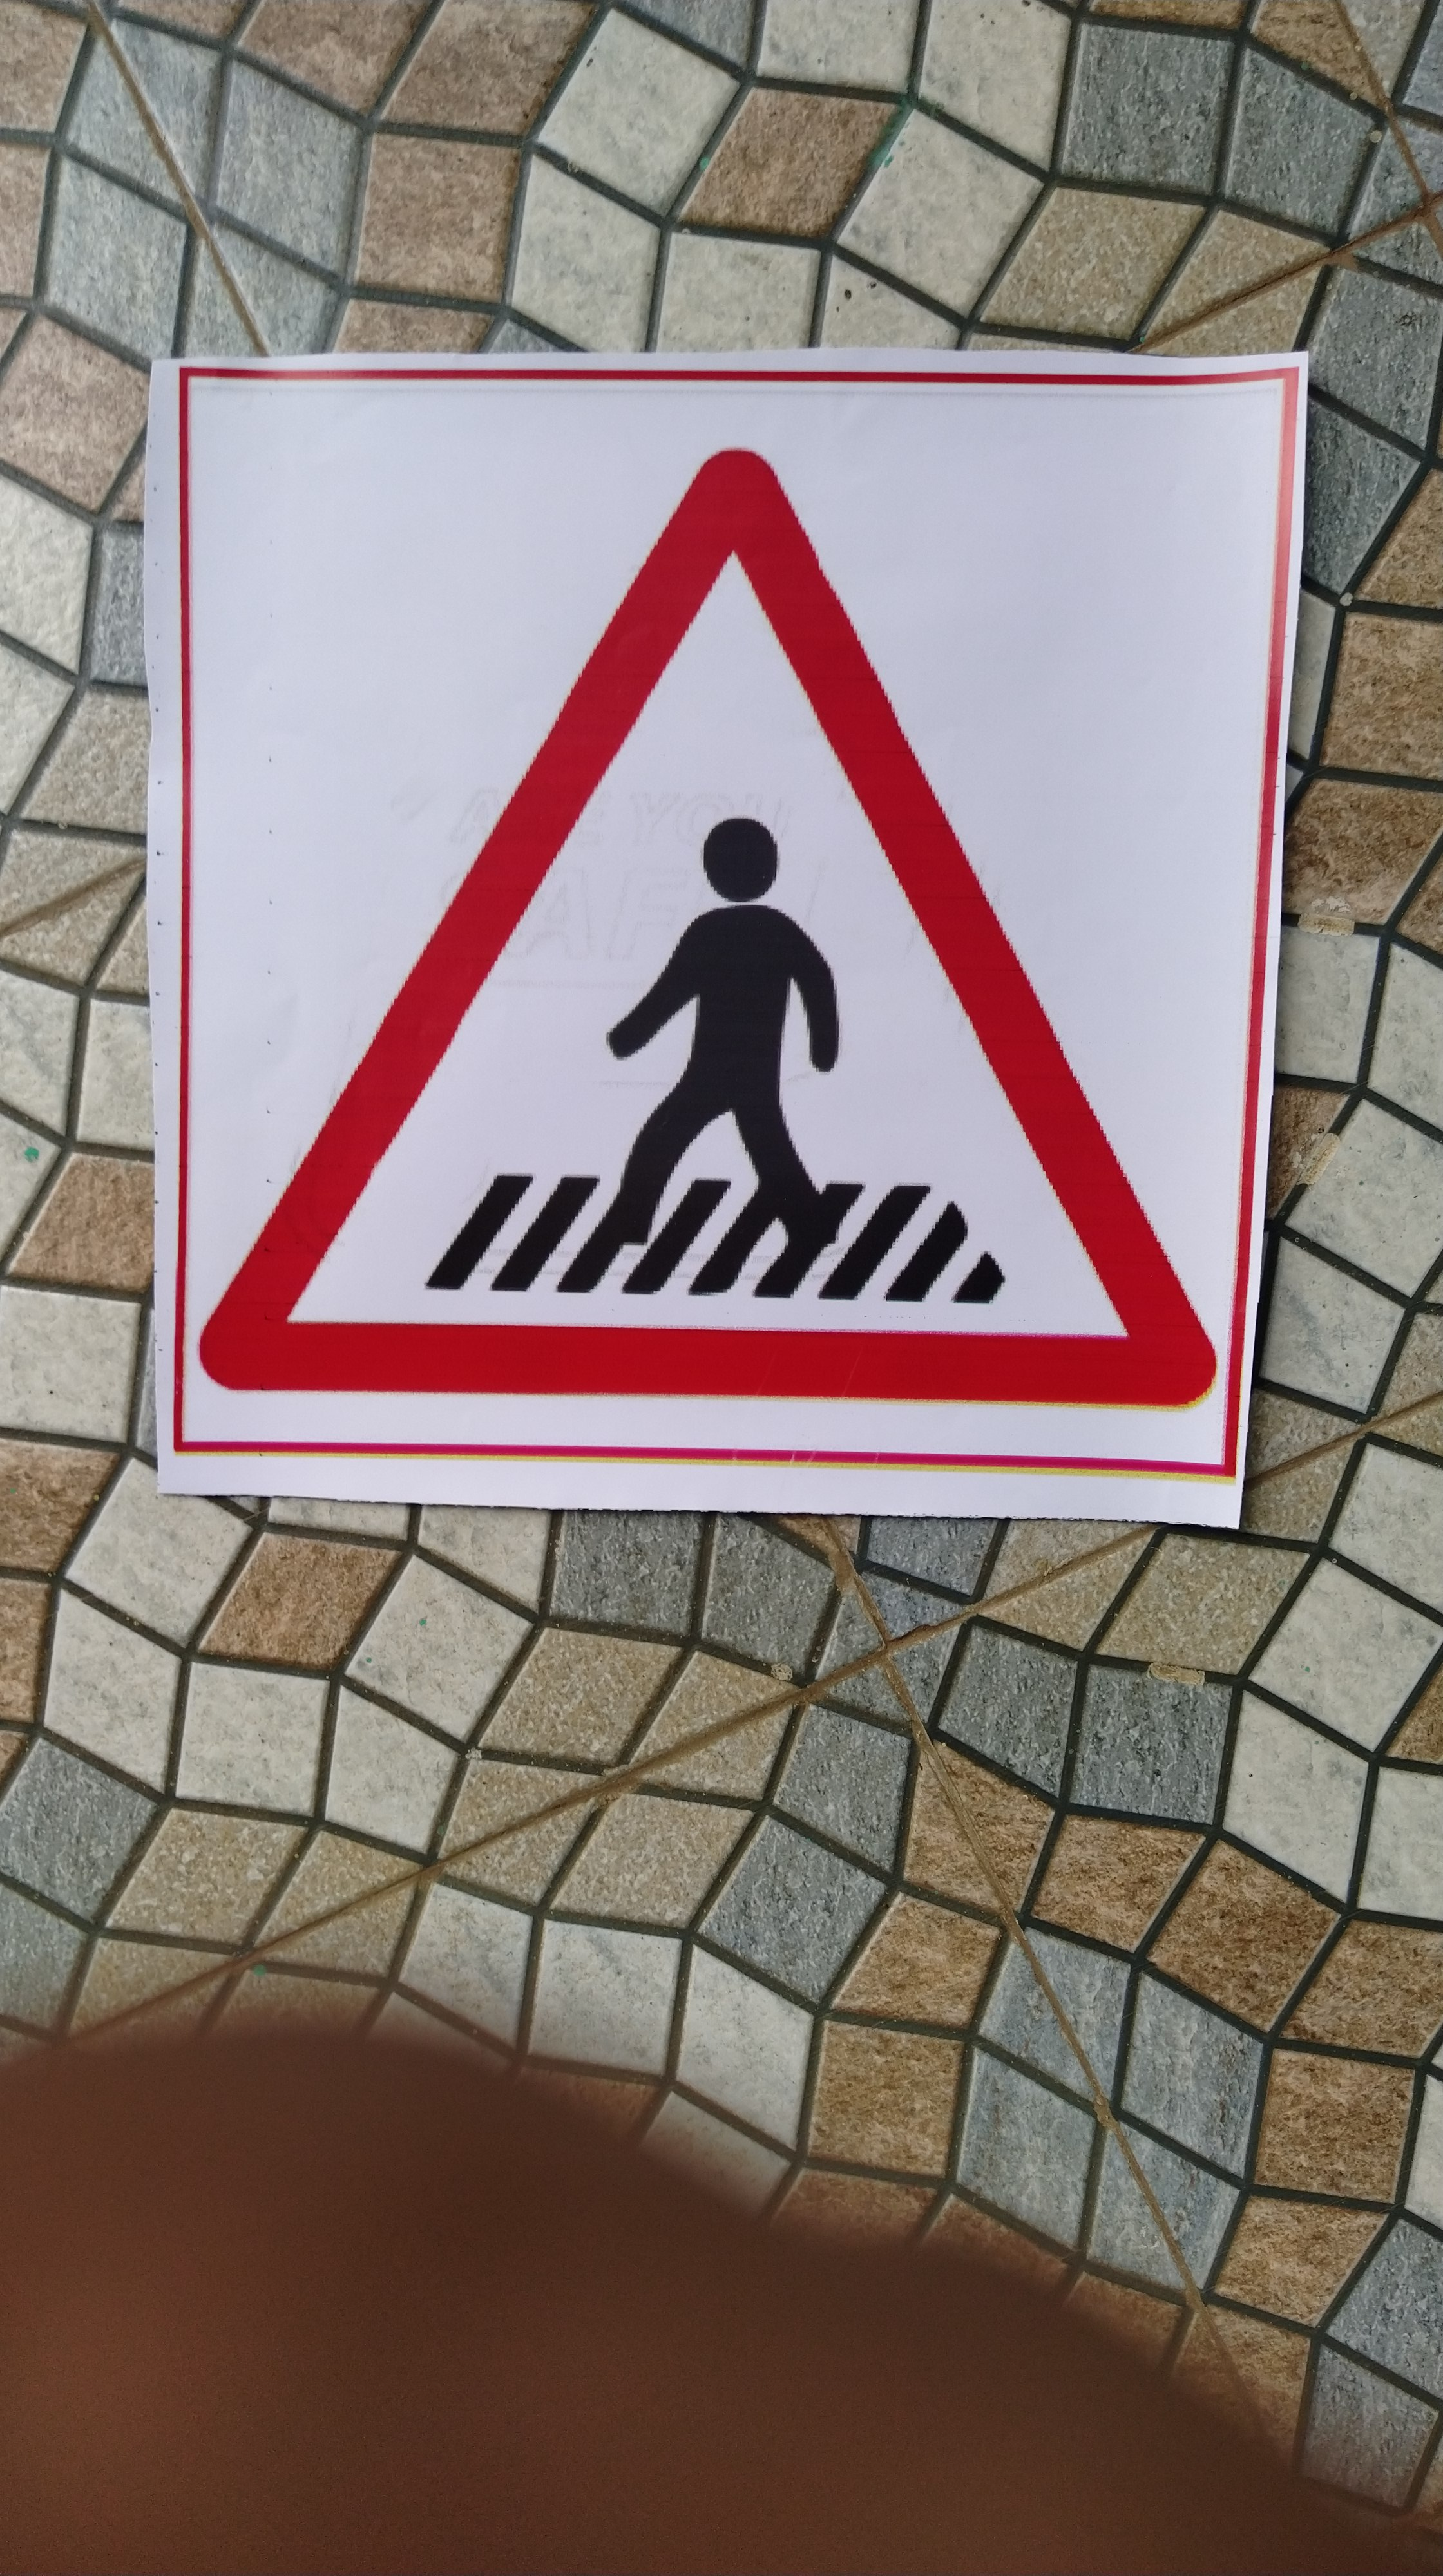pedestrain crossing: (202, 382, 1225, 1461)
